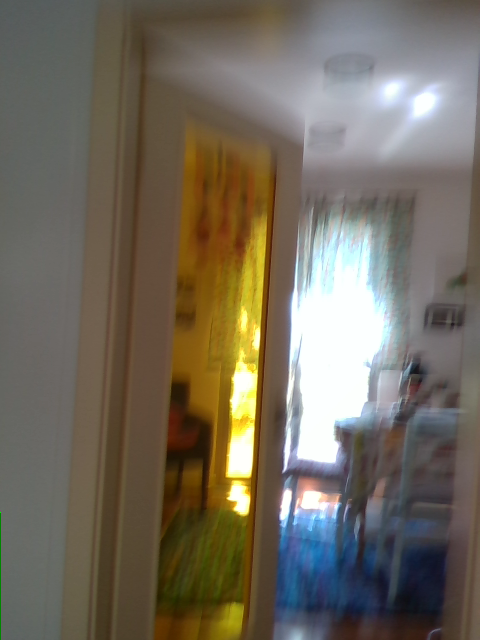semi: (59, 1, 473, 639)
